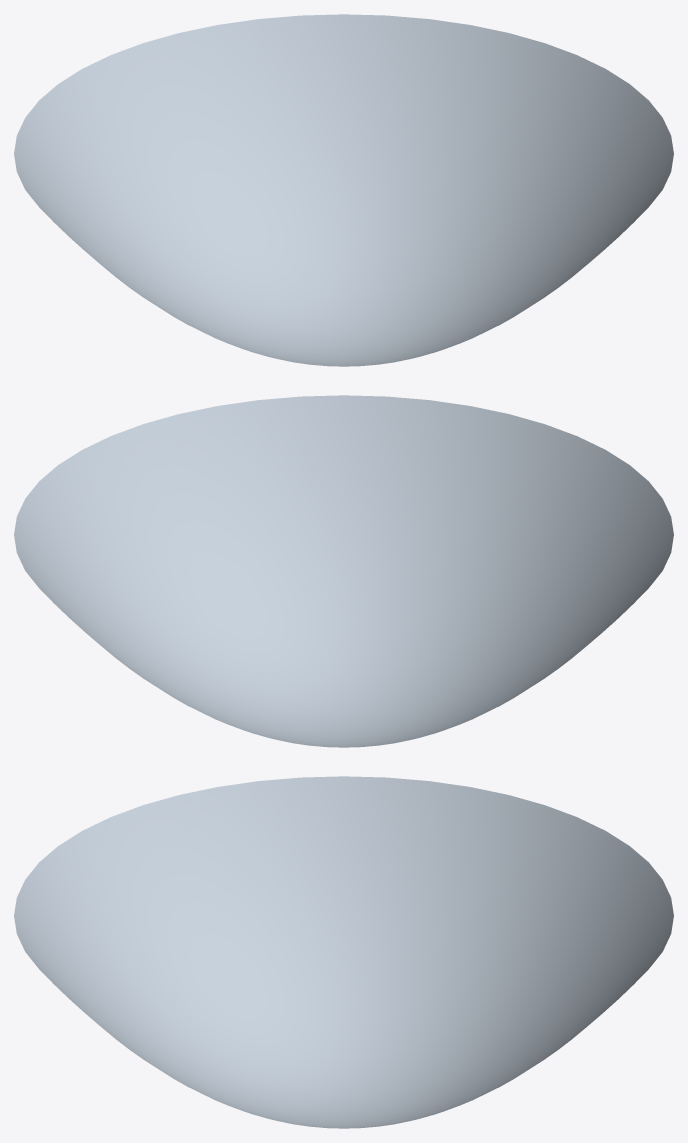
File: bowl.glb
The picture shows the model from 3 angles, top to bottom: view 1: azimuth 30°, elevation 25°; view 2: azimuth 150°, elevation 25°; view 3: azimuth 270°, elevation 25°; orthographic projection.
Parts seen in each view (by area): view 1: bowl; view 2: bowl; view 3: bowl.
Part boxes in pixels (box(x1,y1,x2,y2)): bowl: box(14, 14, 673, 366); bowl: box(14, 395, 673, 747); bowl: box(14, 776, 673, 1128).
Size of the model in its own units: 5 by 1.56 by 5.
